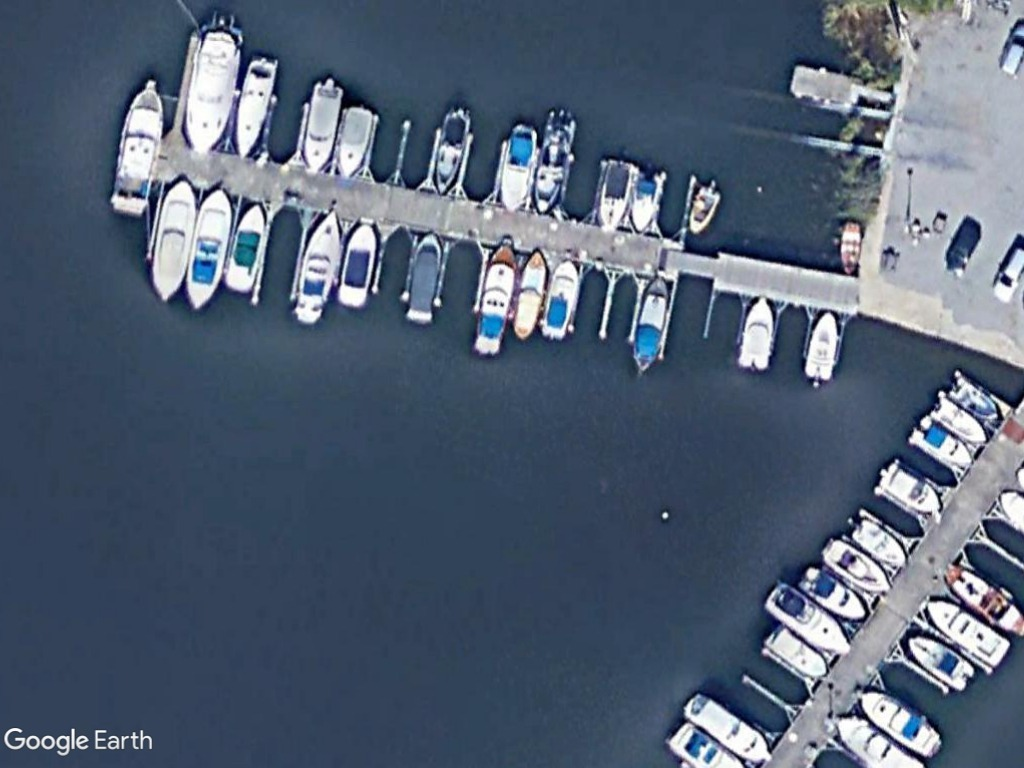boat: (104, 67, 169, 220), (177, 22, 245, 157), (757, 574, 860, 661), (672, 686, 780, 768), (177, 180, 236, 316), (289, 206, 351, 332), (917, 590, 1012, 672), (851, 682, 947, 760), (149, 167, 200, 310), (467, 234, 523, 361), (939, 558, 1024, 640), (230, 48, 285, 159), (817, 531, 900, 603), (626, 270, 679, 376), (216, 194, 269, 299), (425, 101, 480, 202), (490, 114, 544, 214), (793, 561, 871, 629), (331, 216, 384, 316), (867, 457, 949, 521), (902, 629, 983, 693), (906, 411, 983, 477), (758, 618, 836, 683), (296, 71, 342, 179), (398, 224, 444, 332), (925, 381, 993, 451), (506, 243, 552, 343), (843, 508, 910, 576), (734, 292, 788, 376), (534, 253, 583, 345), (328, 93, 377, 184), (590, 154, 641, 237), (946, 366, 1011, 428), (798, 306, 843, 389), (623, 164, 672, 240)
car: (937, 219, 983, 280)
